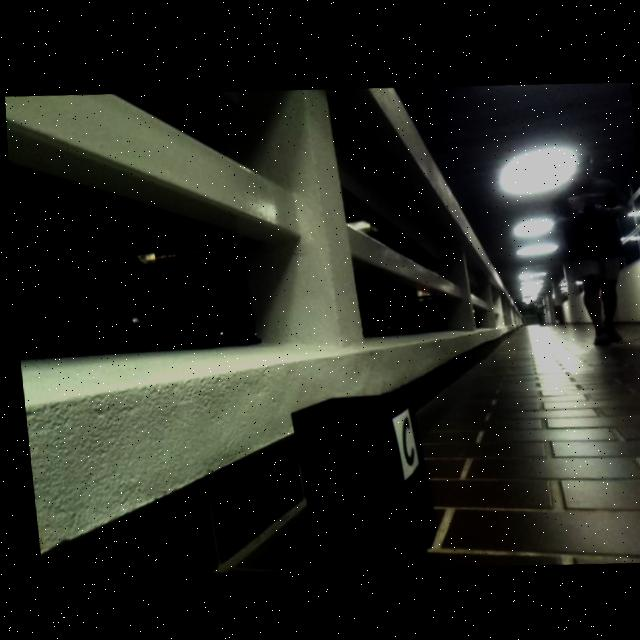C: (397, 415, 411, 464)
